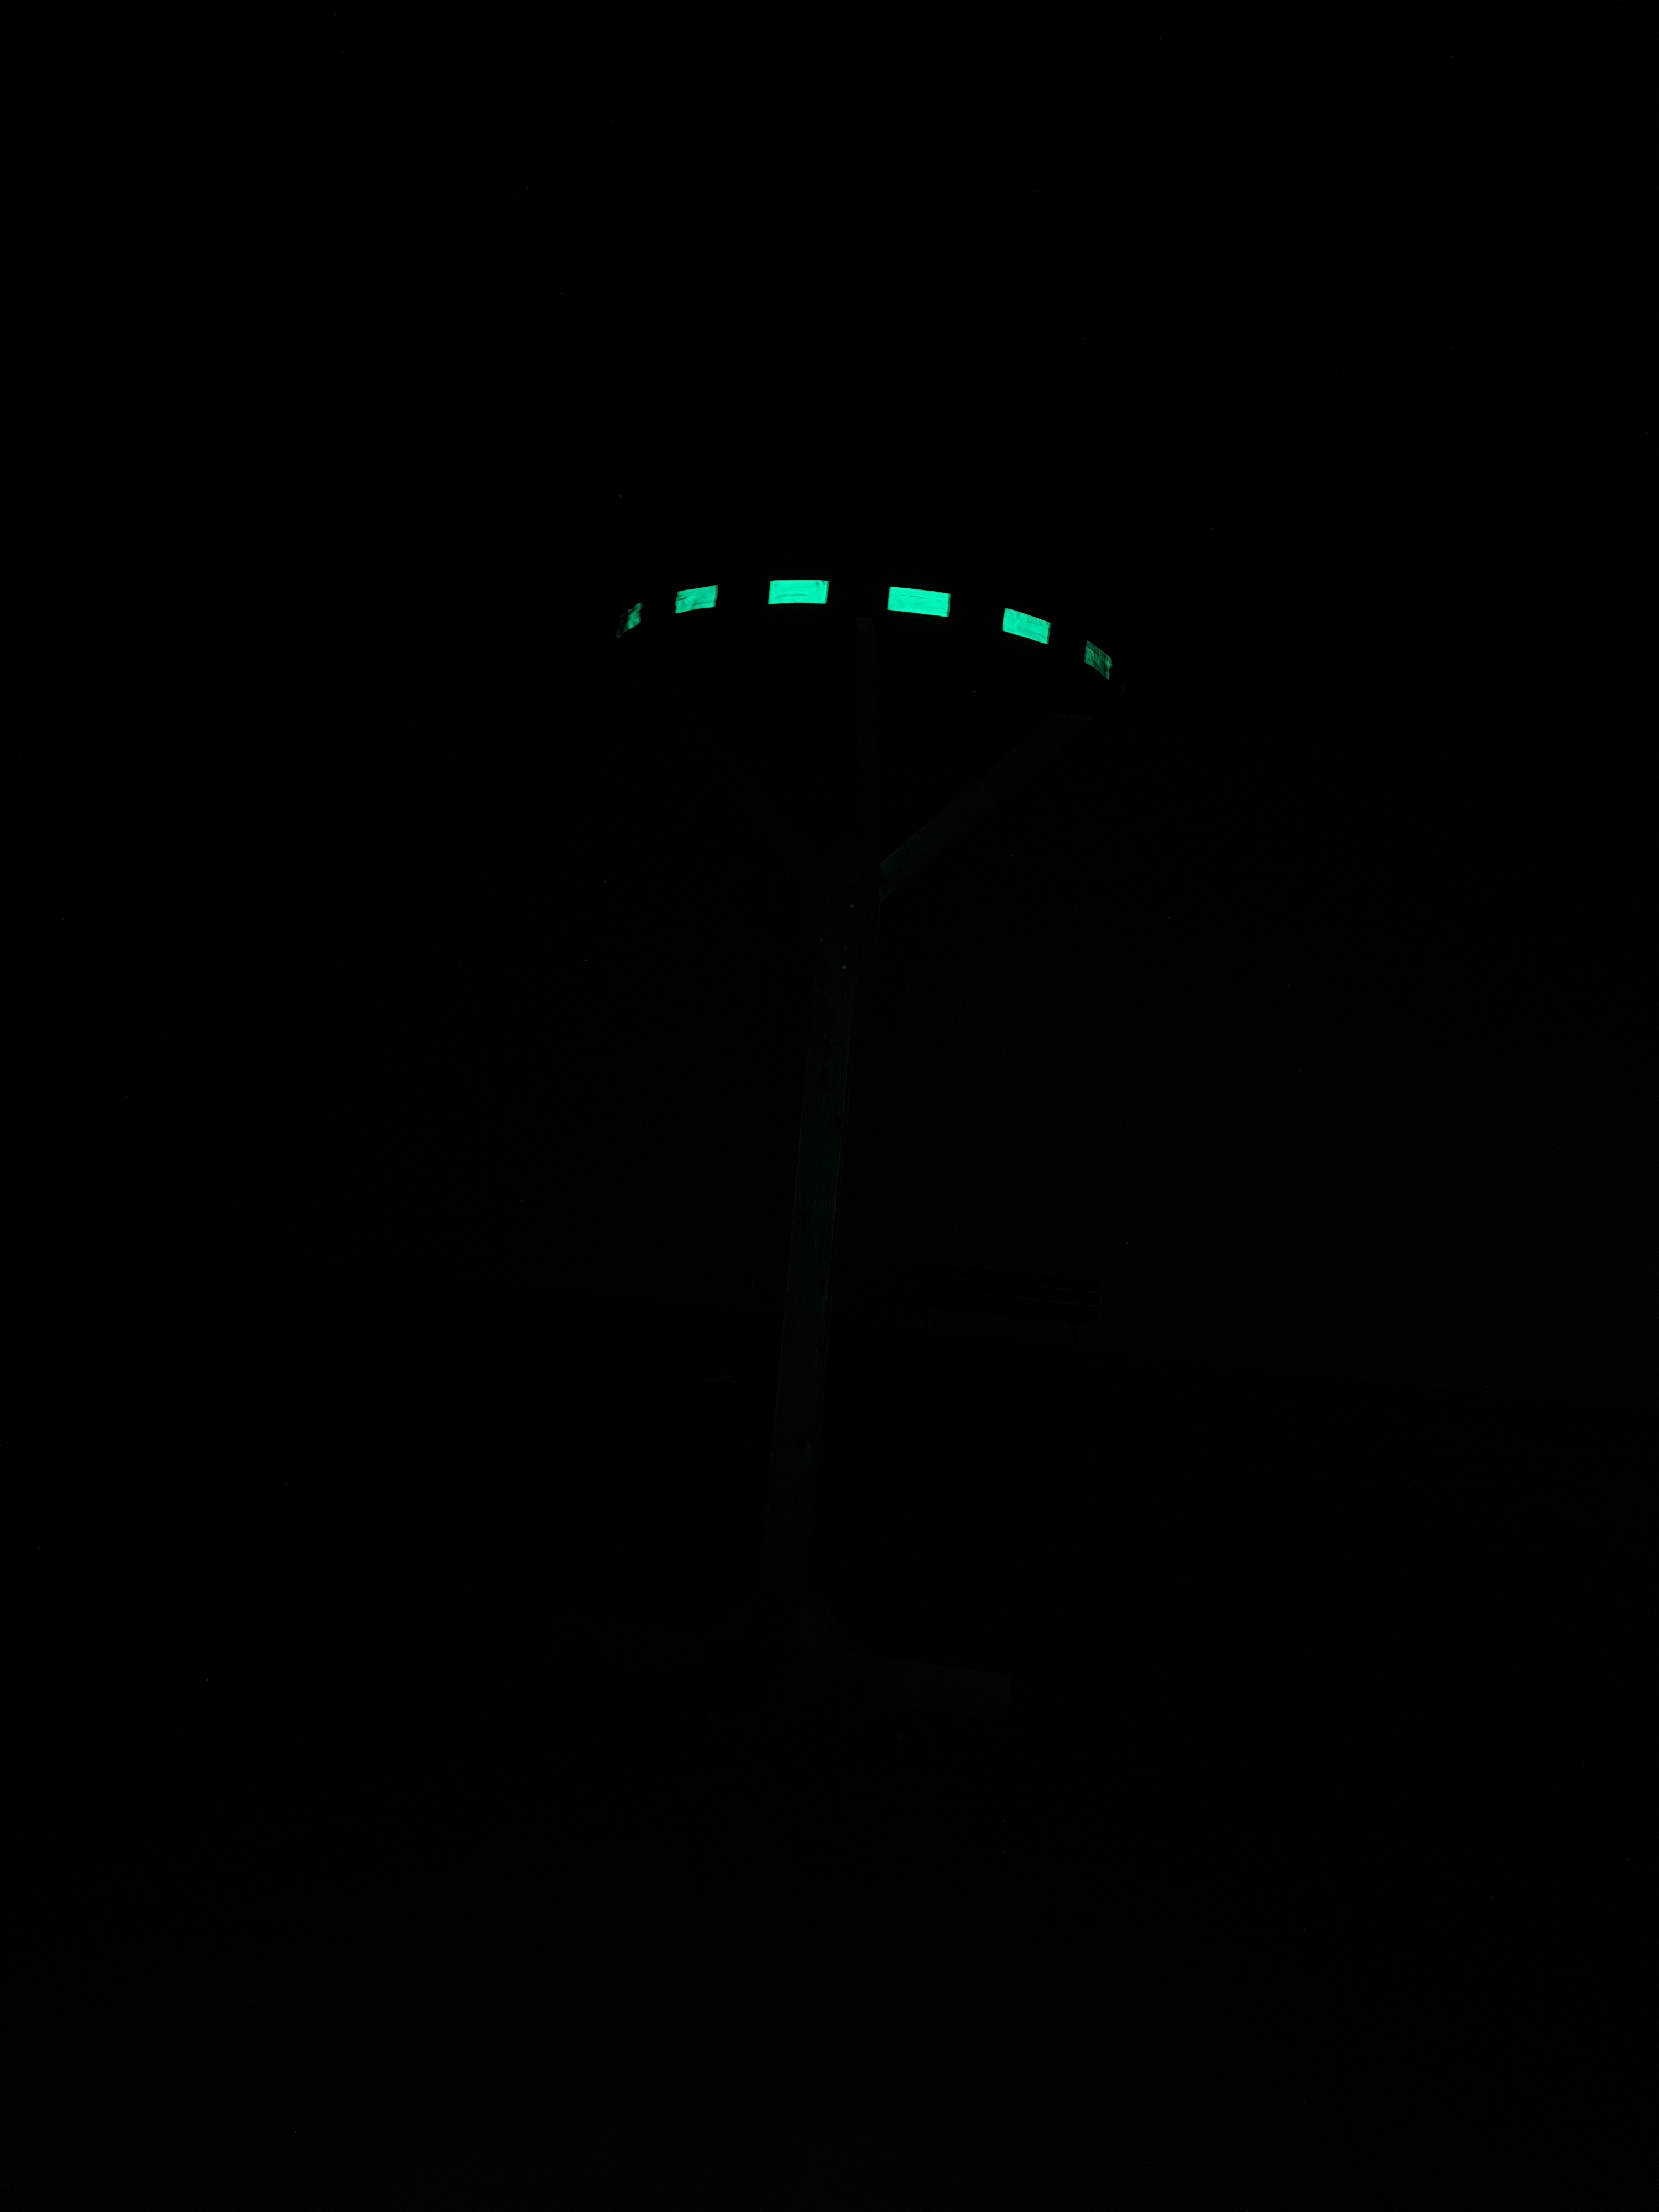hoop: (613, 559, 1121, 695)
